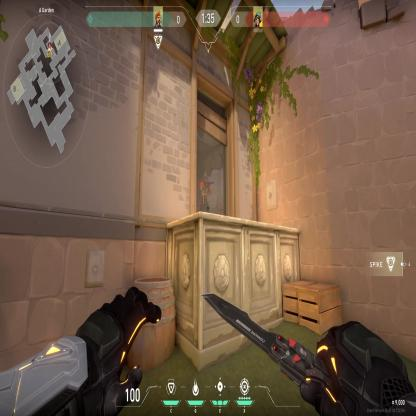enemy: (196, 169, 213, 216)
